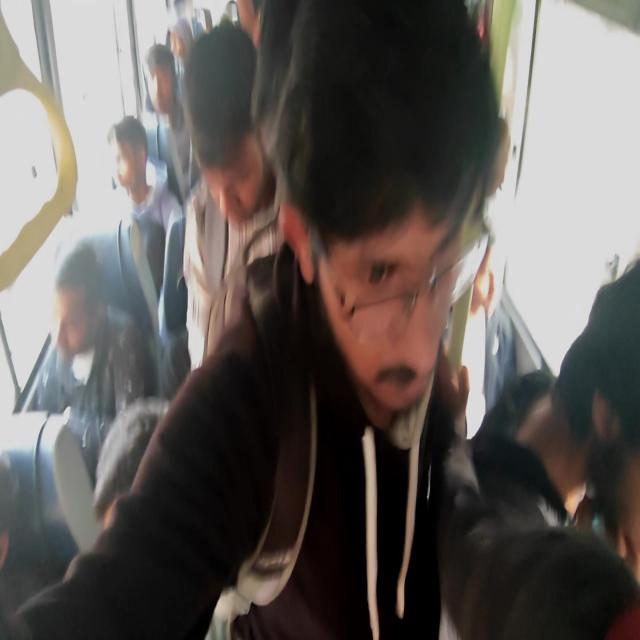person: (480, 250, 640, 568), (320, 185, 470, 418), (182, 25, 278, 243), (95, 428, 176, 592), (51, 245, 107, 362), (0, 454, 33, 566), (106, 115, 150, 192), (139, 45, 178, 110), (230, 0, 263, 51), (169, 18, 203, 52)
